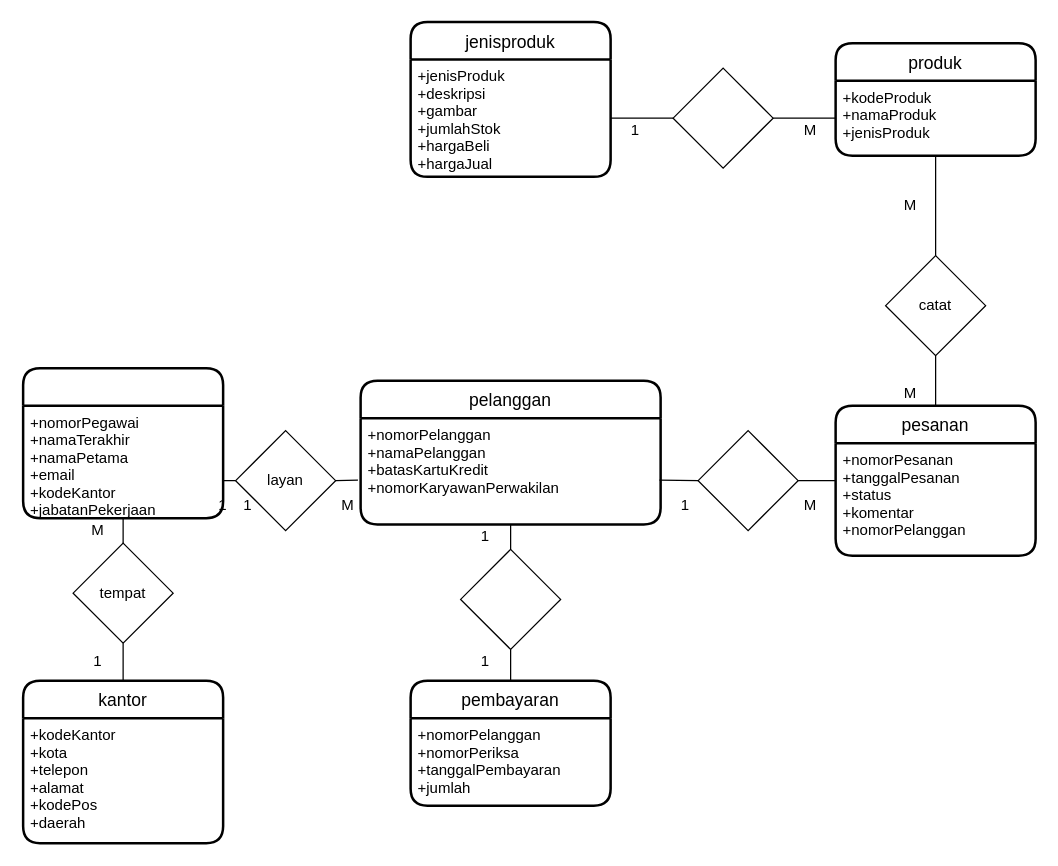
This 1058x866 diagram has some shape labels left out. The shapes that lost their labels are listed below. From the top down, each one's box as (x1, y1, x2, y2) in pixels, then its label:
(672, 67, 773, 168): detail
(21, 366, 224, 519): karyawan
(697, 429, 798, 531): pesan
(459, 548, 561, 649): bayar
